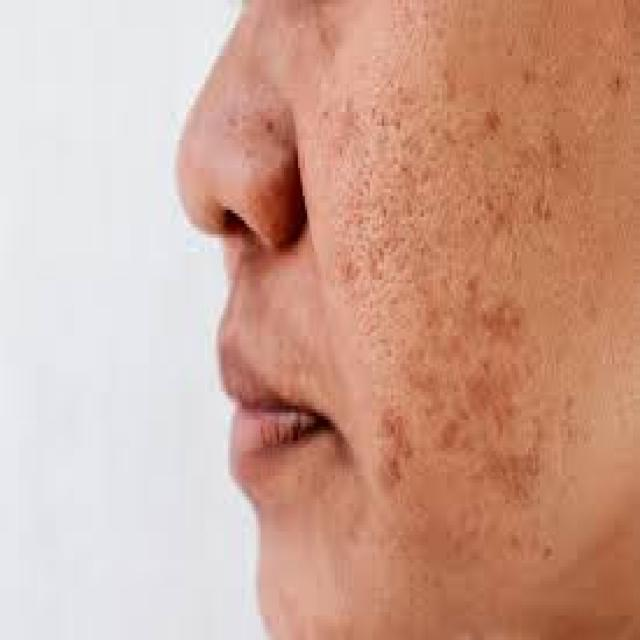pigmentation: (373, 281, 546, 521)
